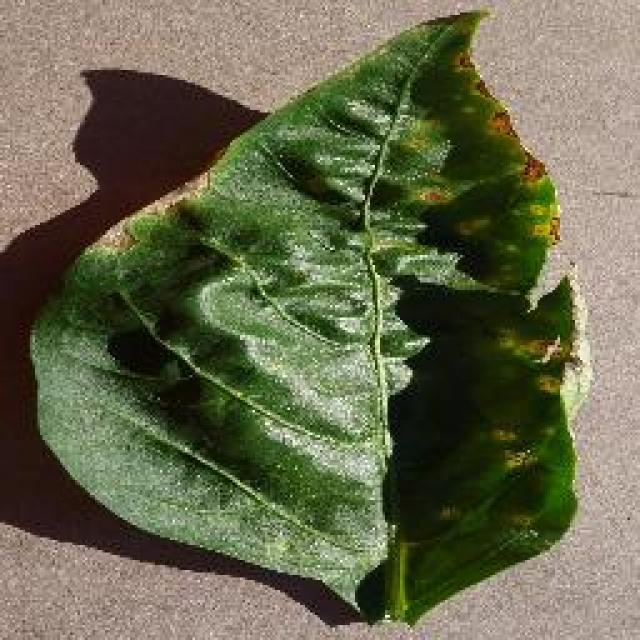Chilli_Bacterial_Spot: (25, 5, 595, 627), (510, 330, 565, 370), (447, 210, 495, 245), (498, 442, 540, 478), (518, 150, 548, 185), (483, 105, 515, 137), (433, 498, 465, 528)
